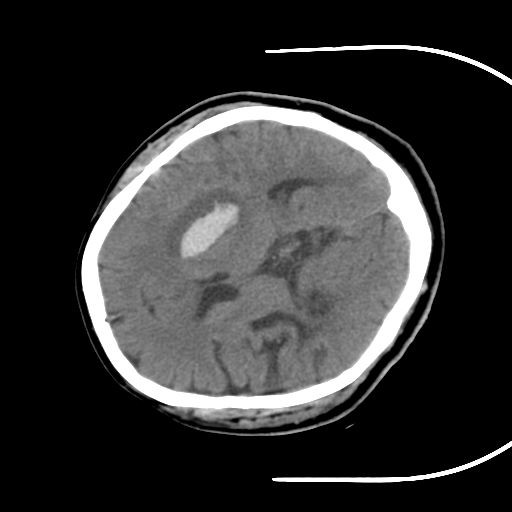a: (156, 179, 252, 275)
